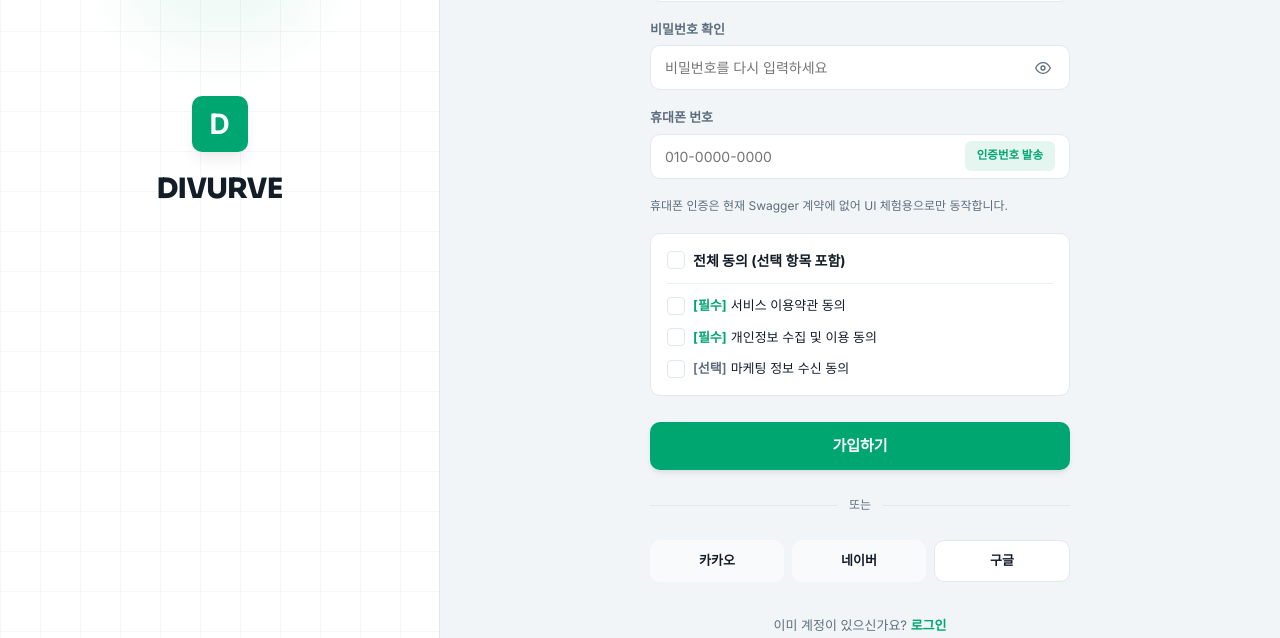
it: AuthPage Component › 약관 에러 상태에서 개별 약관 체크 시 에러가 해제된다
(page scrolled)
// 제출하여 약관 에러 발생
Click the button "가입하기": coordinates (860, 446) x1=650 y1=422 x2=1070 y2=470
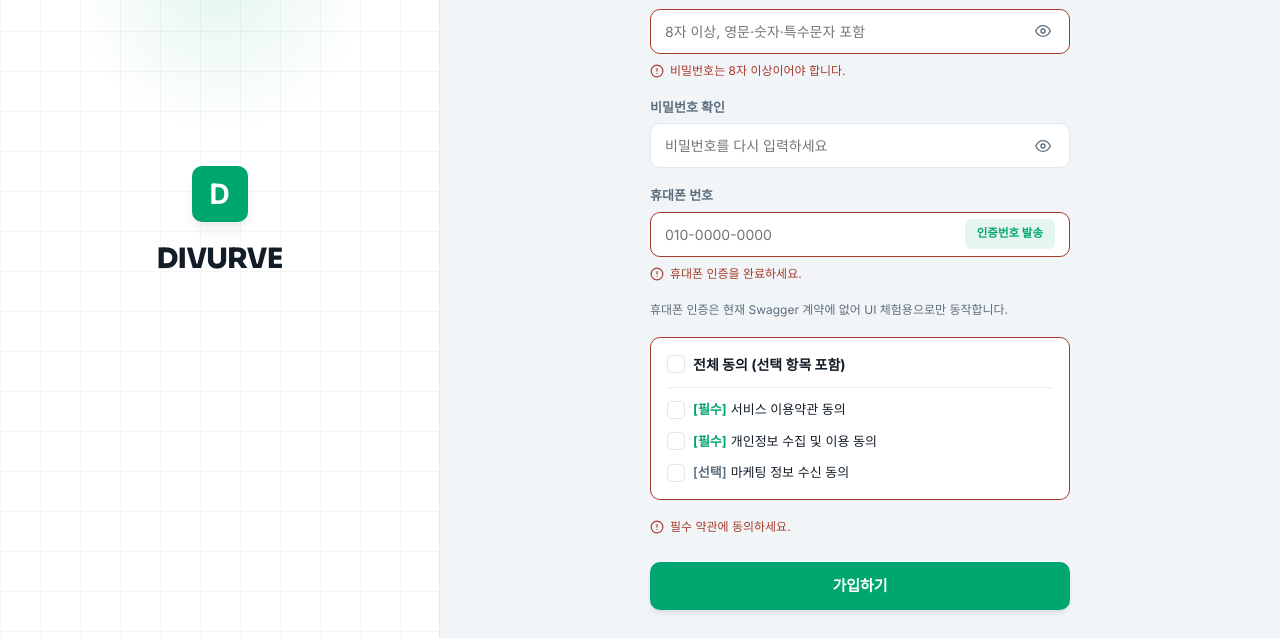
Check: the text "필수 약관에 동의하세요." is shown, box x1=670 y1=518 x2=791 y2=536
// 서비스 약관 체크
Click the checkbox labelled "[필수]서비스 이용약관 동의": coordinates (756, 410) x1=667 y1=401 x2=846 y2=419
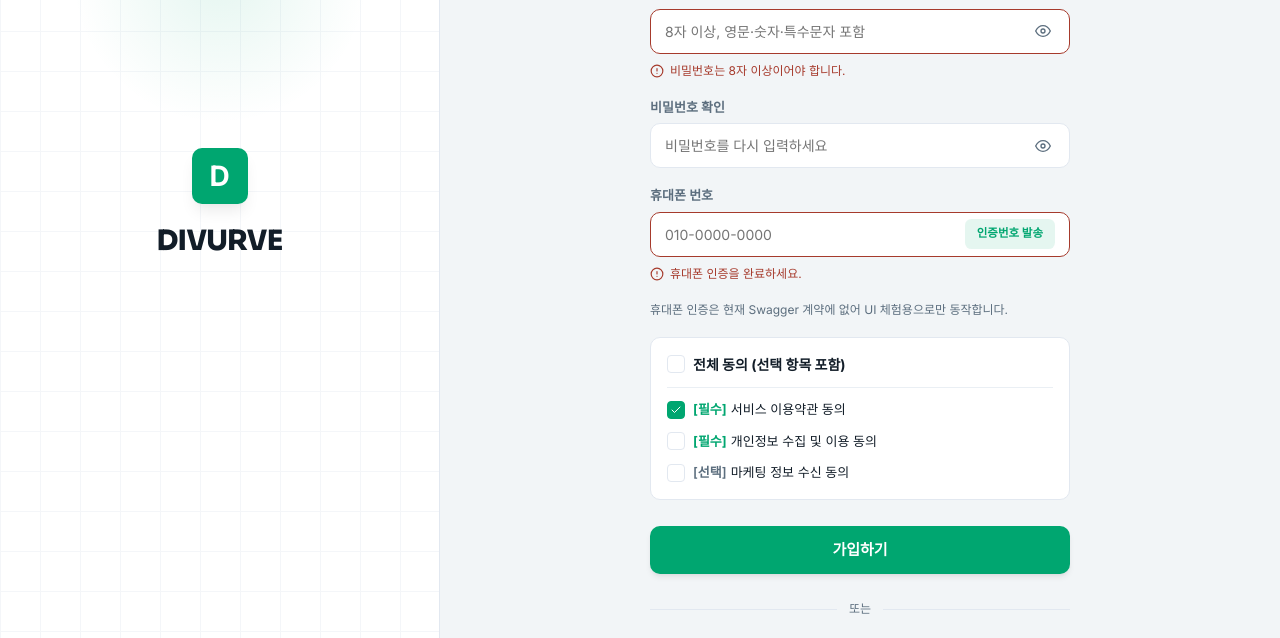
Check: the text "필수 약관에 동의하세요." is gone
// 다시 에러 발생 후 개인정보 약관 체크
Click the checkbox labelled "[필수]서비스 이용약관 동의": coordinates (756, 410) x1=667 y1=401 x2=846 y2=419
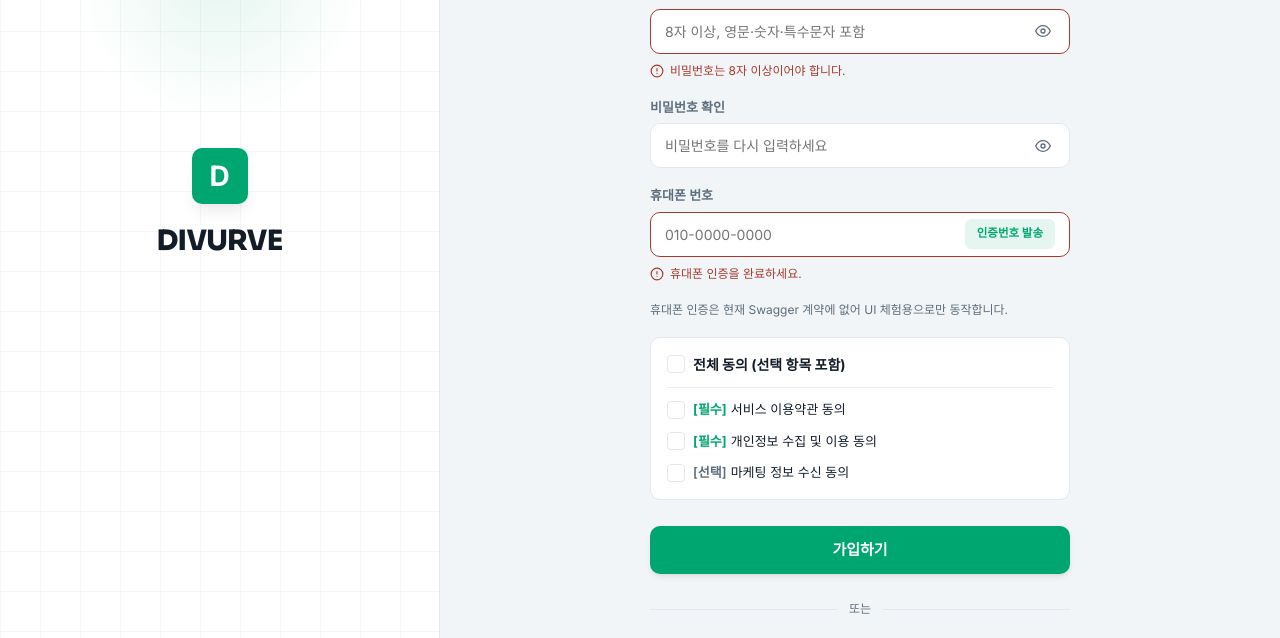
Click the button "가입하기": coordinates (860, 550) x1=650 y1=526 x2=1070 y2=574
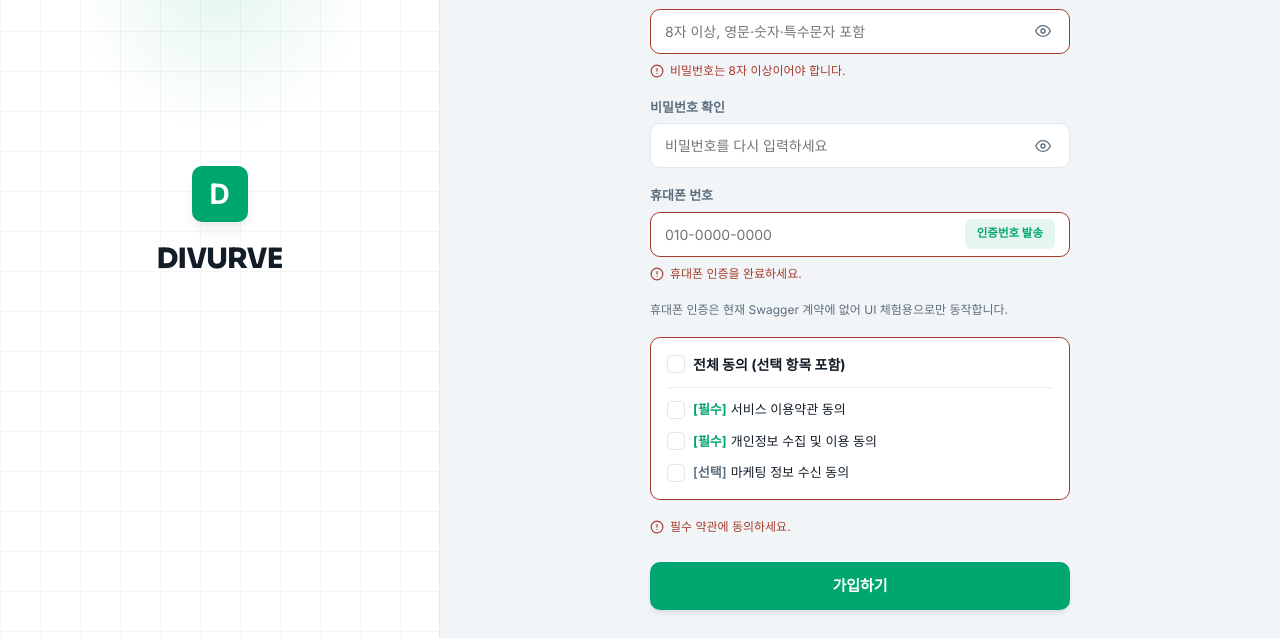
Check: the text "필수 약관에 동의하세요." is shown, box x1=670 y1=518 x2=791 y2=536
Click the checkbox labelled "[필수]개인정보 수집 및 이용 동의": coordinates (772, 441) x1=667 y1=432 x2=877 y2=450
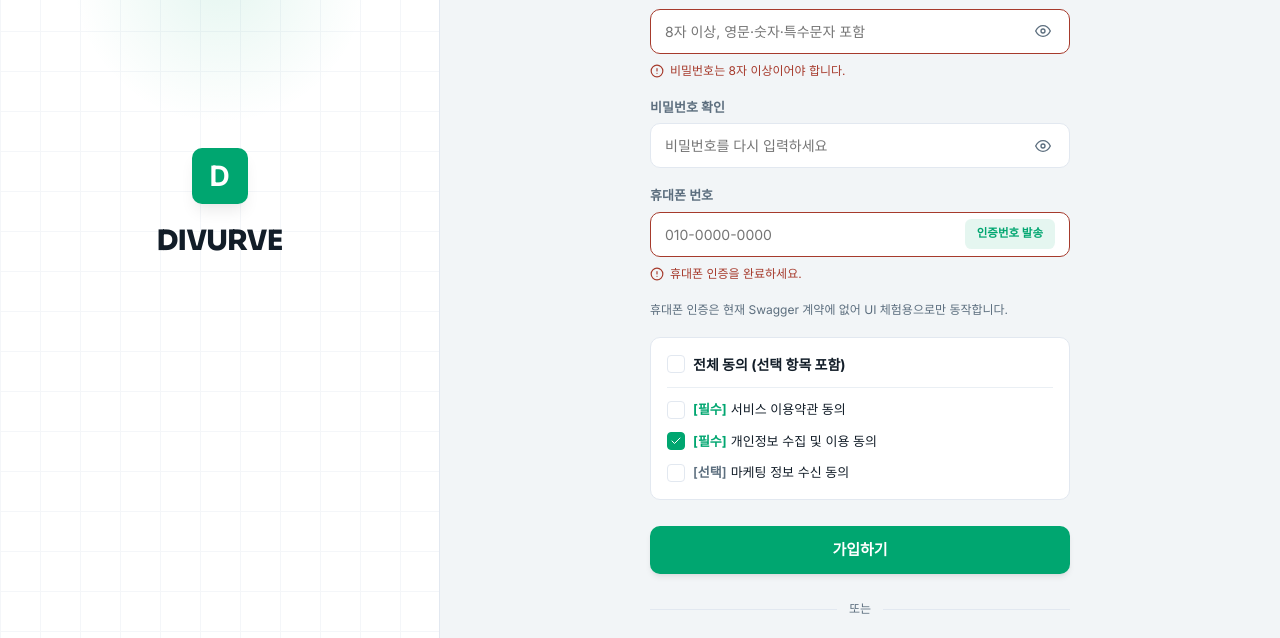
Check: the text "필수 약관에 동의하세요." is gone
